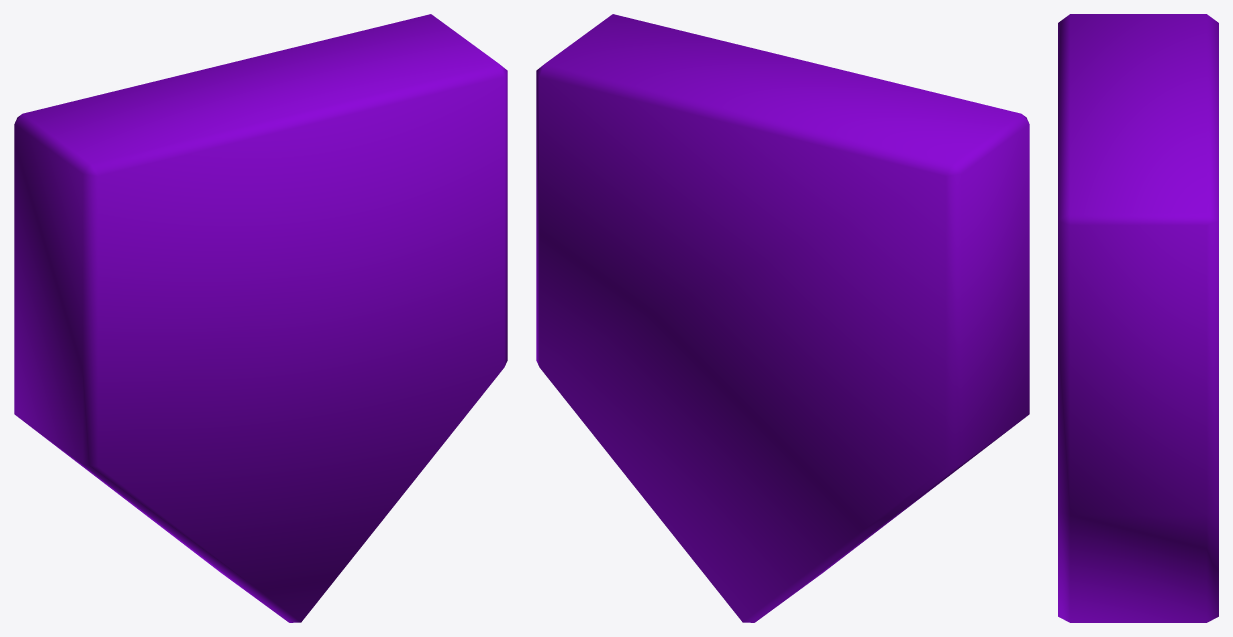
File: Item_Shield.fbx
The picture shows the model from 3 angles, left to right: view 1: azimuth 30°, elevation 25°; view 2: azimuth 150°, elevation 25°; view 3: azimuth 270°, elevation 25°; orthographic projection.
Visible parts, largest first — view 1: heart; view 2: heart; view 3: heart.
Part boxes in pixels (bbox=[...]): heart: bbox=[14, 14, 507, 622]; heart: bbox=[536, 14, 1029, 622]; heart: bbox=[1058, 14, 1218, 622].
Bounding box in the file's own units: 52.8 × 60.31 × 17.35.
